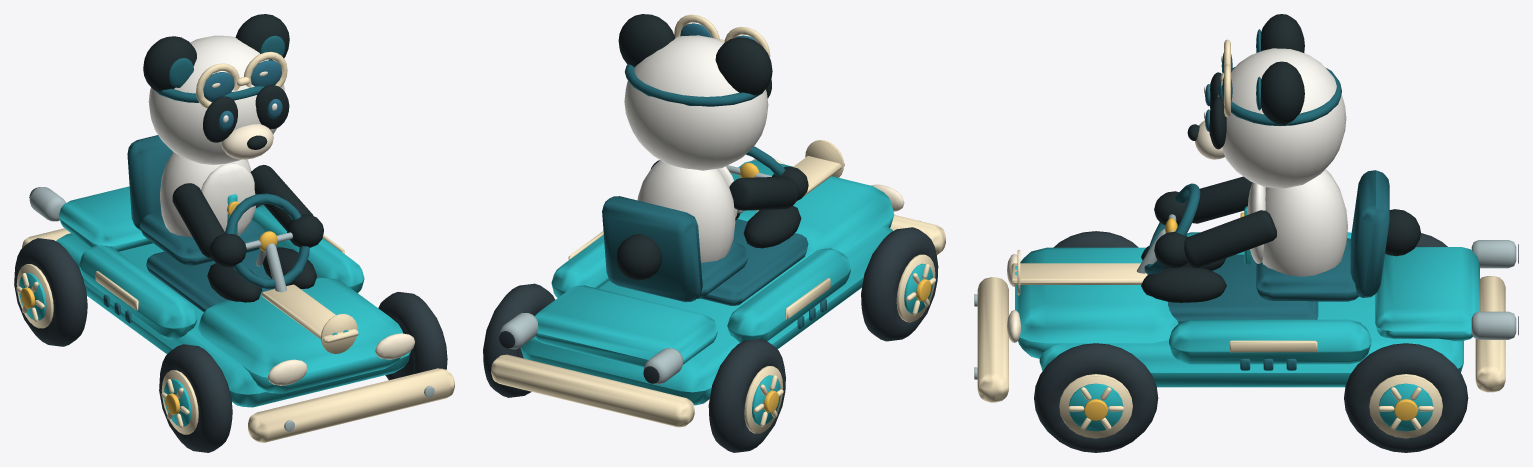
The model's file is kart-panda.glb.
The picture shows the model from 3 angles, left to right: view 1: azimuth 30°, elevation 25°; view 2: azimuth 150°, elevation 25°; view 3: azimuth 270°, elevation 25°; orthographic projection. The views are drawn at different scales.
Visible parts, largest first — view 1: Nose, FrontBumper, PandaHead, Chassis, SidePod-1, TireFrontL, TireRearL, RearDeck, TireFrontR, Footwell, SeatBack, SidePod1 (+32 smaller); view 2: PandaHead, RearDeck, Chassis, SeatBack, RearBumper, Nose, PandaBody, SidePod-1, TireRearL, TireFrontL, Footwell, TireRearR (+20 smaller); view 3: Nose, PandaHead, RearDeck, Chassis, SidePod1, TireFrontR, TireRearR, PandaBody, Footwell, SeatBack, FrontBumper, SeatBase (+23 smaller).
Boxes of the visible parts, x1,y1,x2,y2 form: Nose: (198,278,403,393); FrontBumper: (248,368,454,442); PandaHead: (148,35,284,164); Chassis: (56,233,411,407); SidePod-1: (79,245,196,339); TireFrontL: (159,344,232,452); TireRearL: (14,238,87,346); RearDeck: (58,186,152,251); TireFrontR: (378,292,447,380); Footwell: (146,245,320,311); SeatBack: (127,135,172,230); SidePod1: (252,205,364,292); PandaHead: (624,35,768,170); RearDeck: (534,285,717,367); Chassis: (520,226,892,405); SeatBack: (602,196,702,302); RearBumper: (491,354,694,427); Nose: (731,160,894,262); PandaBody: (637,160,735,262); SidePod-1: (727,248,850,342); TireRearL: (708,338,785,452); TireFrontL: (861,227,938,341); Footwell: (701,219,808,305); TireRearR: (483,283,554,397); Nose: (1015,247,1178,358); PandaHead: (1218,48,1346,188); RearDeck: (1375,247,1479,341); Chassis: (1039,294,1463,387); SidePod1: (1169,319,1371,364); TireFrontR: (1034,343,1158,452); TireRearR: (1344,343,1468,452); PandaBody: (1262,169,1347,276); Footwell: (1168,254,1318,323); SeatBack: (1350,170,1389,297); FrontBumper: (977,277,1008,402); SeatBase: (1256,238,1358,301).
Size of the model in its own units: 2 by 2.4 by 3.33.
